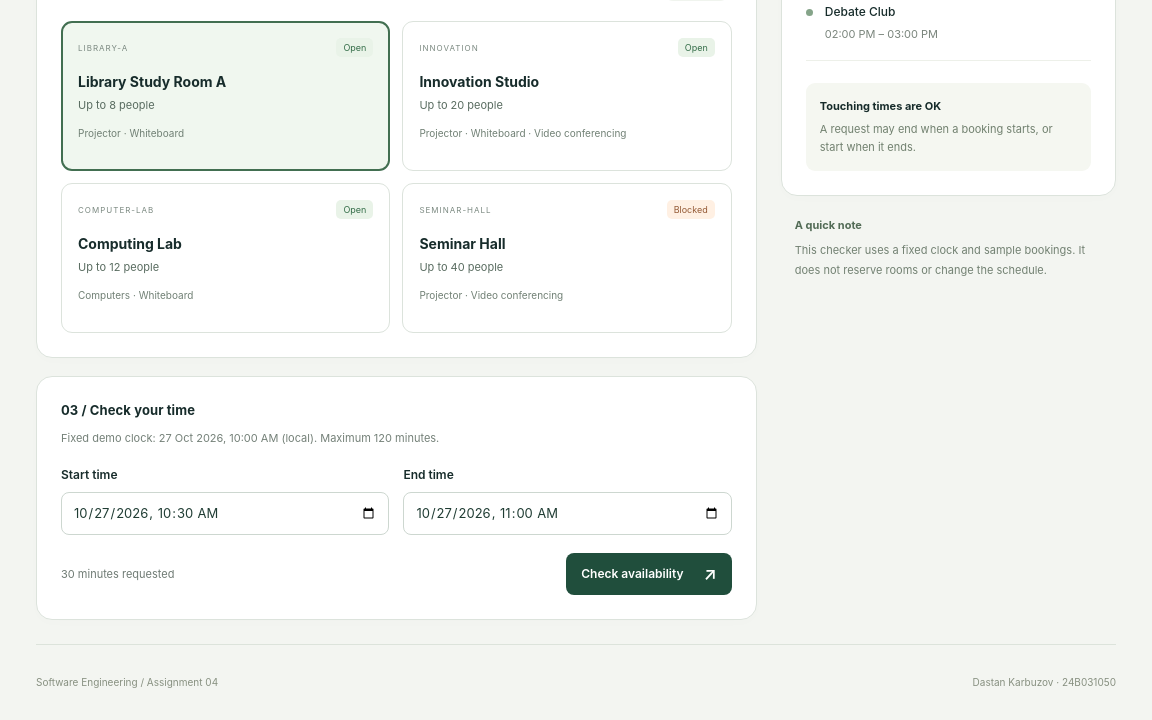
mounted React integration: actual controls, state, result and schedule › F5 switching after a check refreshes both result and own schedule
The width and height of the screenshot is (1152, 720).
(page scrolled)
Click the button "Check availability ↗": [649, 574] box x1=566 y1=553 x2=732 y2=595
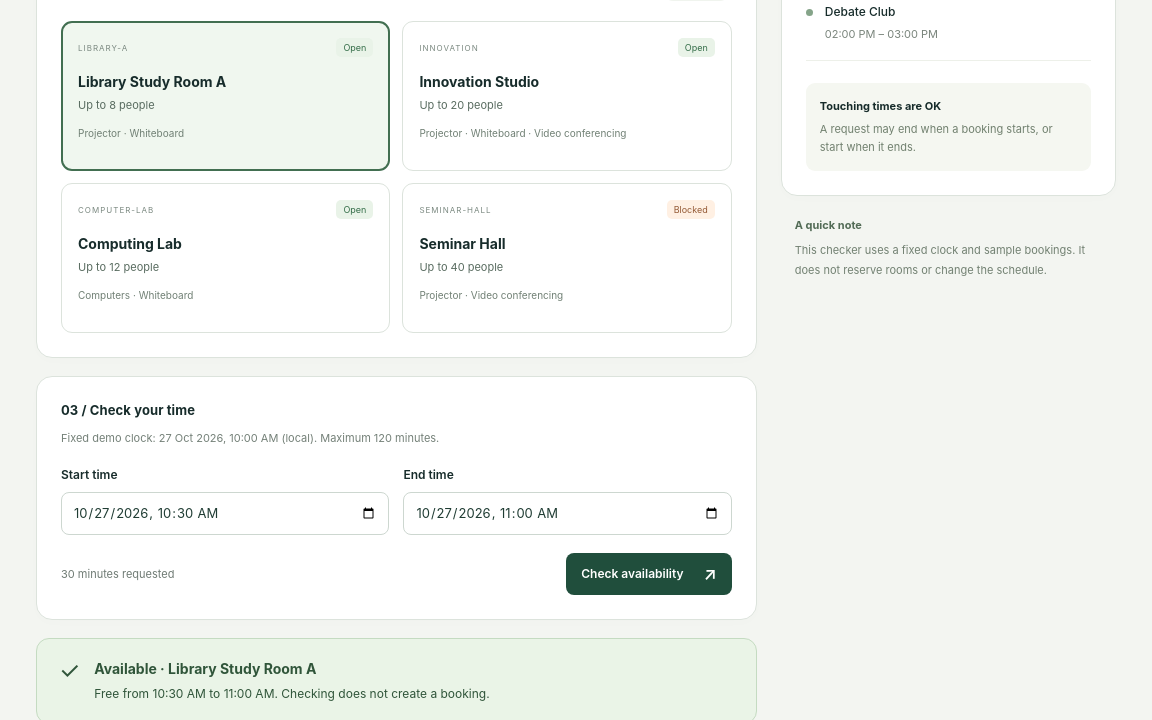
Click the button that starts with "innovation": [449, 48] box x1=402 y1=21 x2=732 y2=171
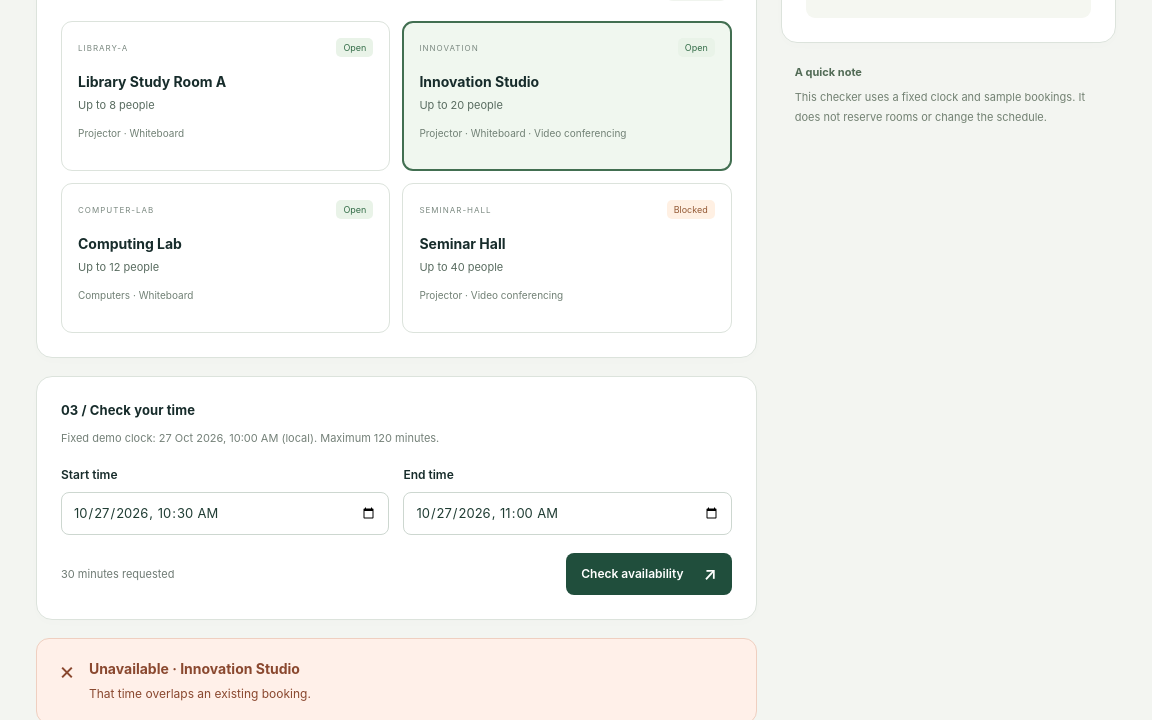
Now the message with class "result" shows "overlaps", box x1=89 y1=686 x2=311 y2=701
Click the button that starts with "computer-lab": [116, 210] box x1=61 y1=183 x2=390 y2=333
(page scrolled)
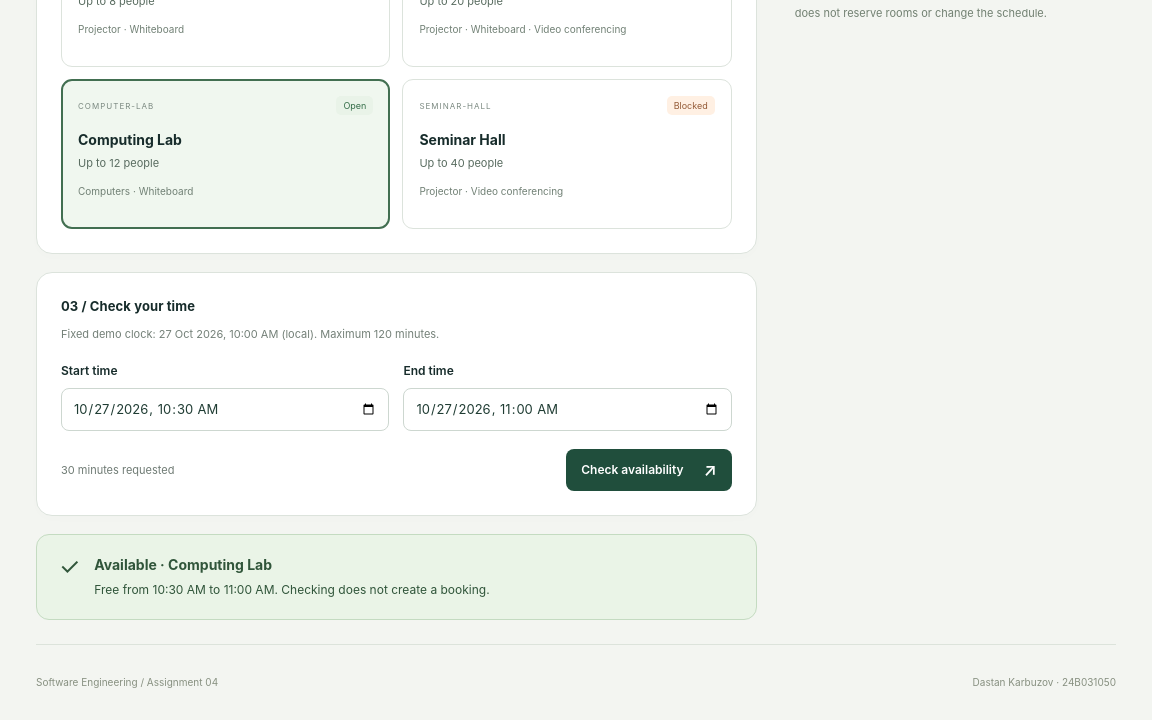
Now the message with class "result" shows "Available · Computing Lab", box x1=36 y1=534 x2=757 y2=620
